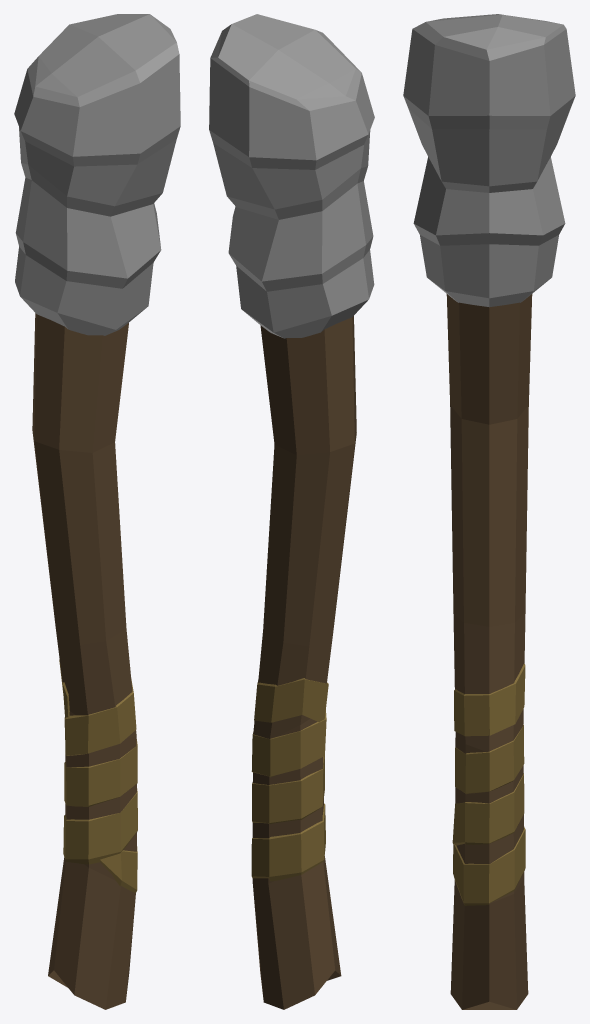
File: Wooden Torch.glb
The picture shows the model from 3 angles, left to right: view 1: azimuth 30°, elevation 25°; view 2: azimuth 150°, elevation 25°; view 3: azimuth 270°, elevation 25°; orthographic projection. The views are drawn at different scales.
Parts seen in each view (by area): view 1: Wooden Torch; view 2: Wooden Torch; view 3: Wooden Torch.
Part boxes in pixels (x1,y1,x2,y2): Wooden Torch: (14, 14, 180, 1009); Wooden Torch: (209, 14, 374, 1009); Wooden Torch: (403, 14, 575, 1009).
Bounding box in the file's own units: 0.4572 × 2.69 × 0.4188.
